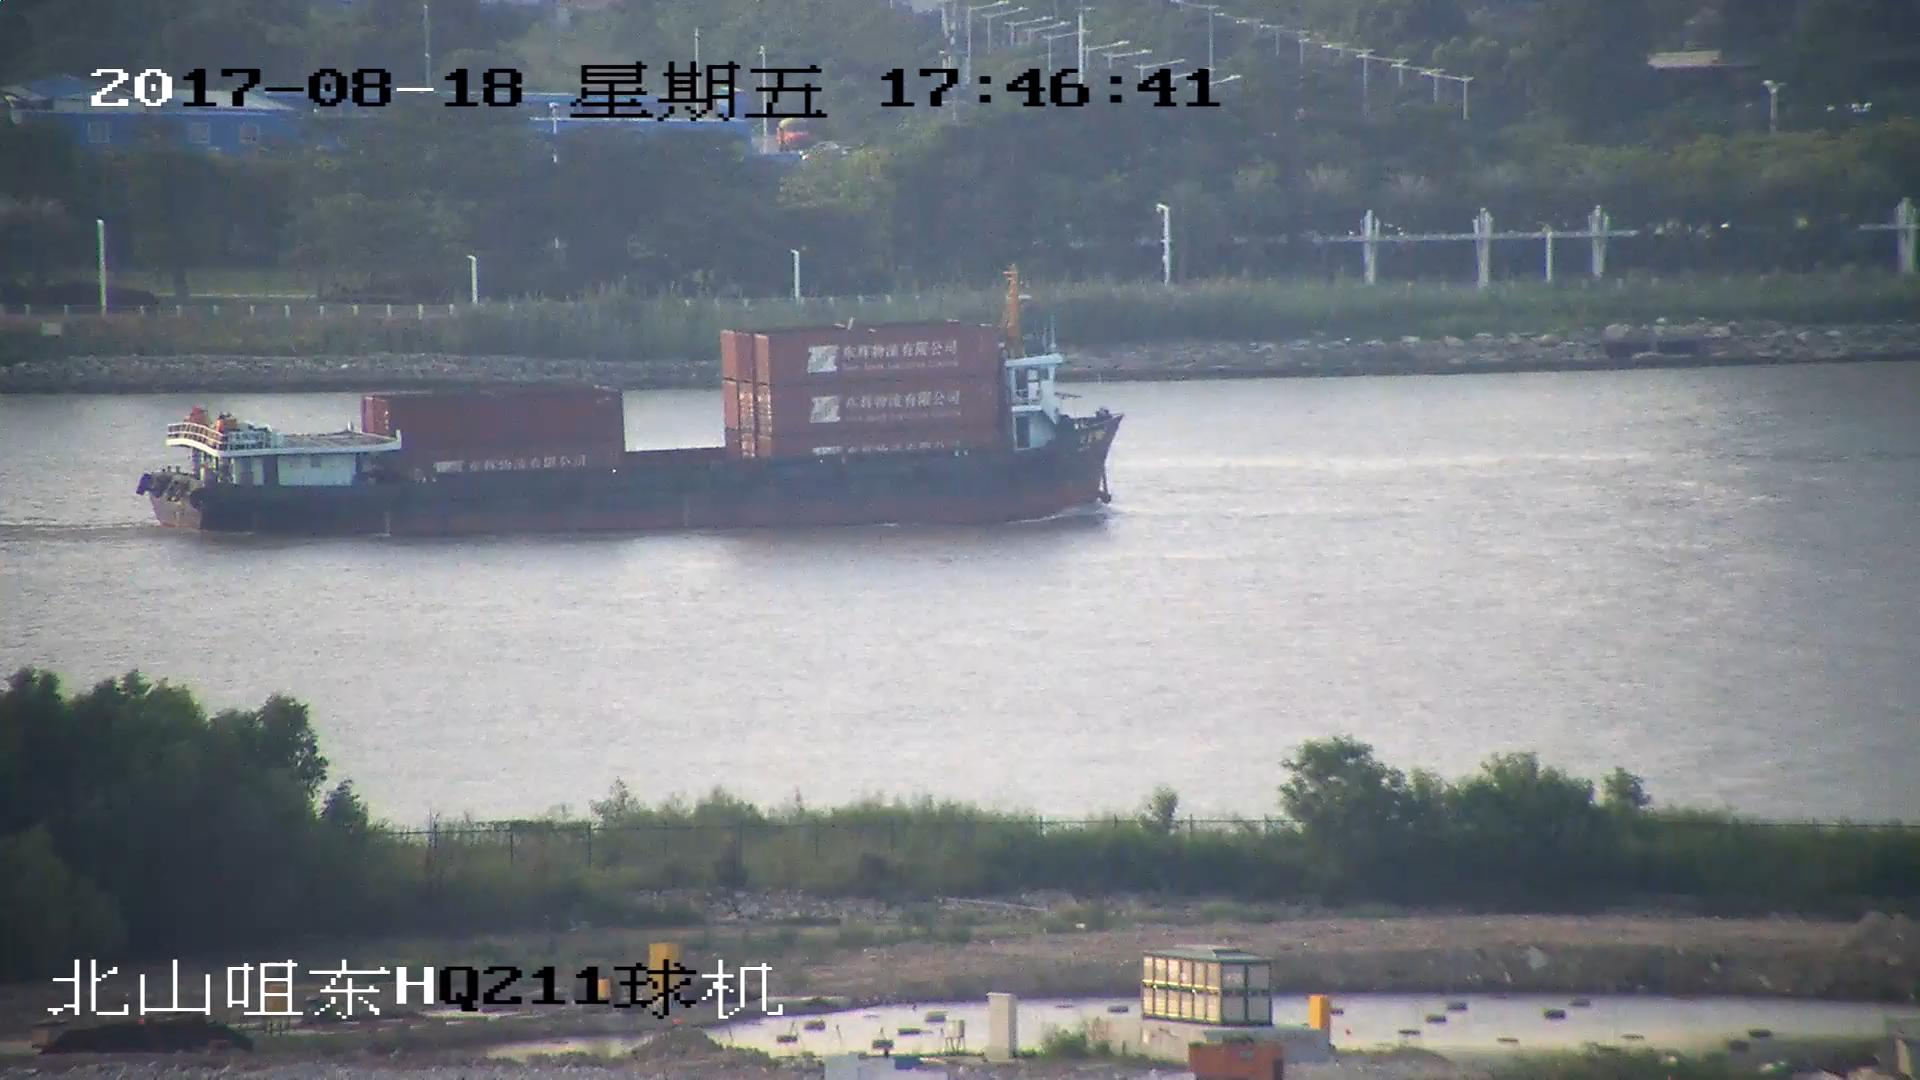container ship: (138, 270, 1121, 539)
